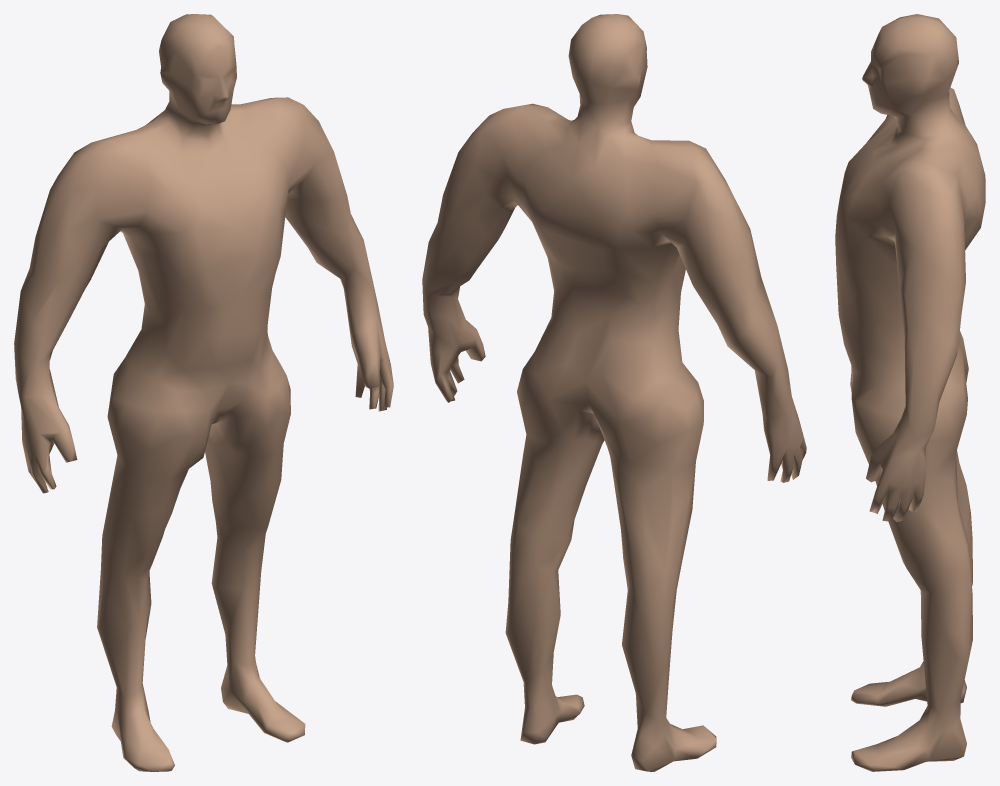
Rendered from Kiniku_v1.03.fbx.
3 renders of one model, left to right at view 1: azimuth 30°, elevation 25°; view 2: azimuth 150°, elevation 25°; view 3: azimuth 270°, elevation 25°, orthographic.
Parts seen in each view (by area): view 1: humanBody-reduced; view 2: humanBody-reduced; view 3: humanBody-reduced.
Part boxes in pixels (box(x1,y1,x2,y2)): humanBody-reduced: box(14, 14, 393, 771); humanBody-reduced: box(422, 14, 806, 771); humanBody-reduced: box(835, 14, 985, 771).
Size of the model in its own units: 95.56 by 183 by 34.84.
